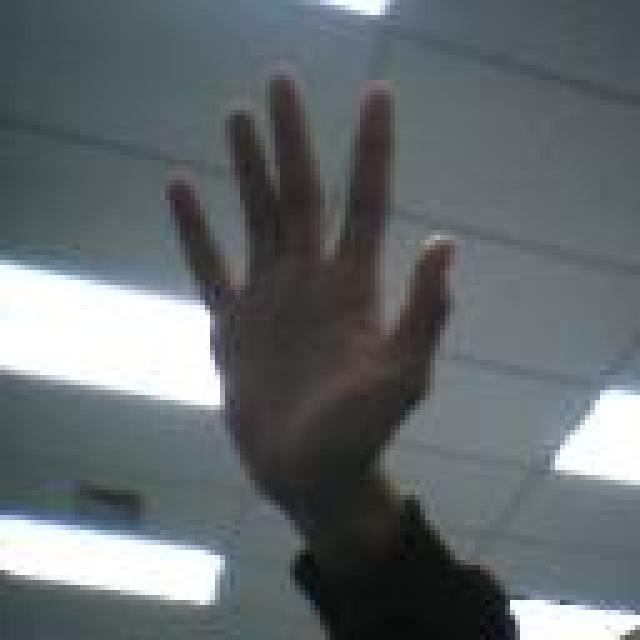no-gloves: (160, 65, 460, 485)
